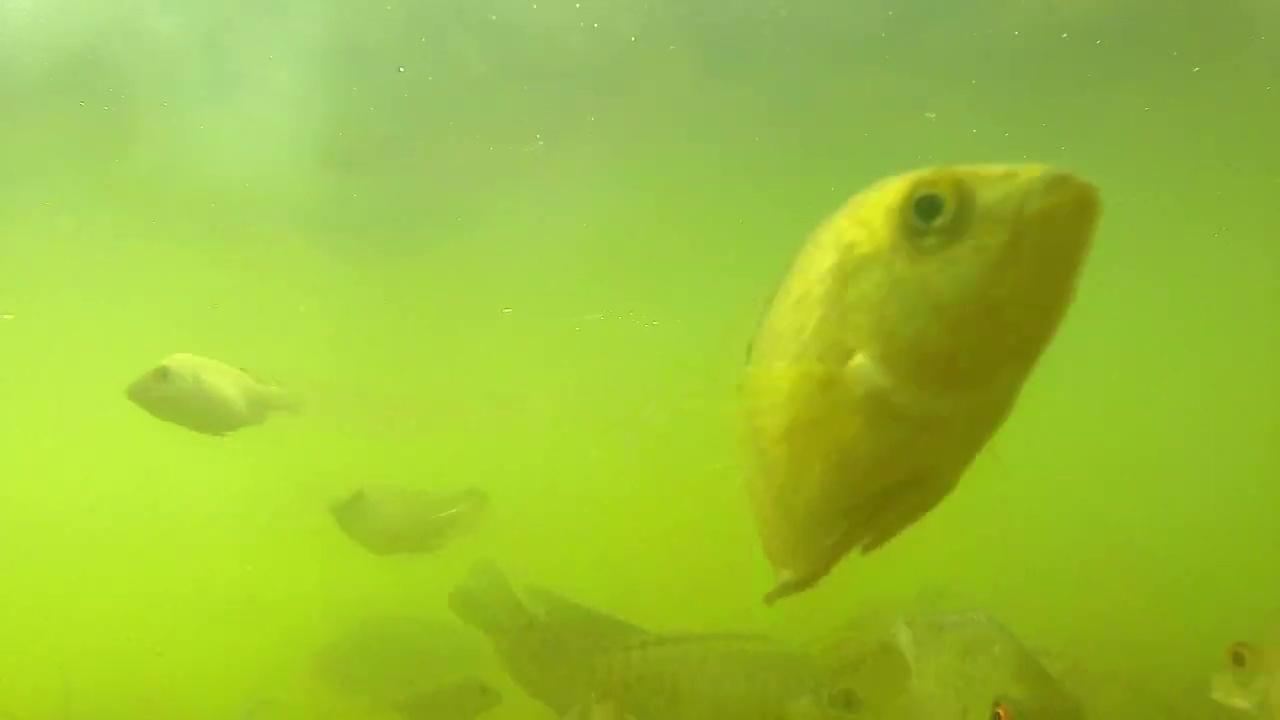Tilapia: (735, 154, 1114, 602), (886, 604, 1097, 718), (117, 346, 308, 440), (331, 476, 492, 558), (1209, 612, 1280, 720)
